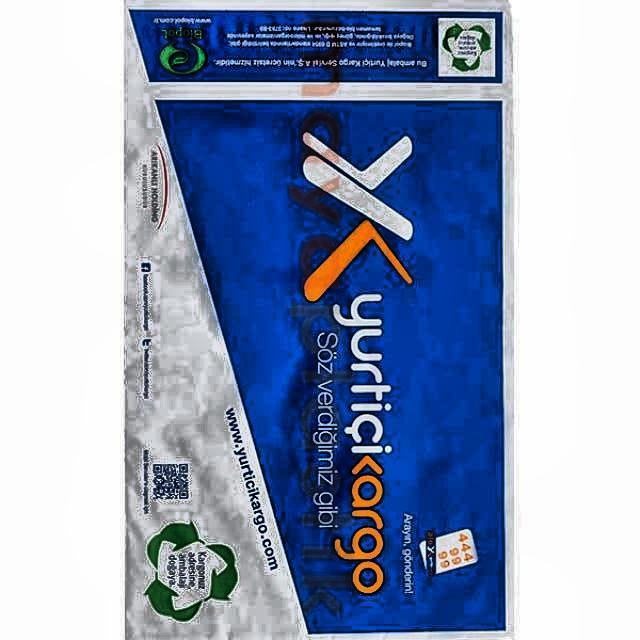plastic: (125, 0, 512, 639)
